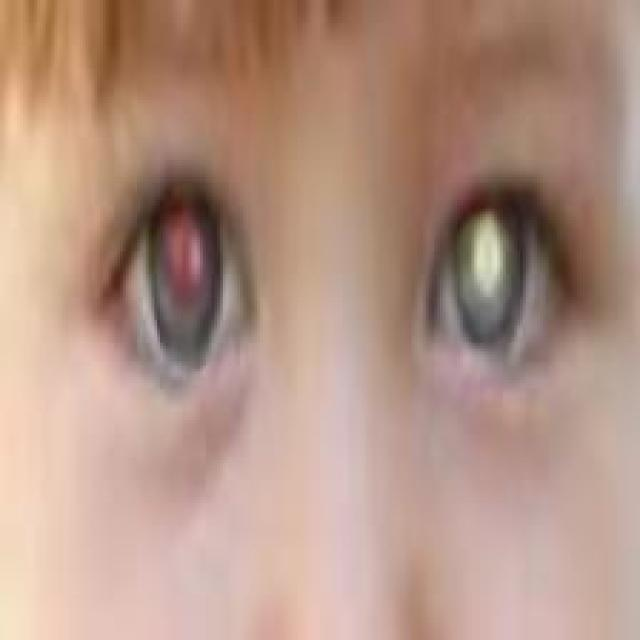reflexo-alterado: (427, 172, 580, 413)
reflexo-normal: (70, 169, 272, 393)
